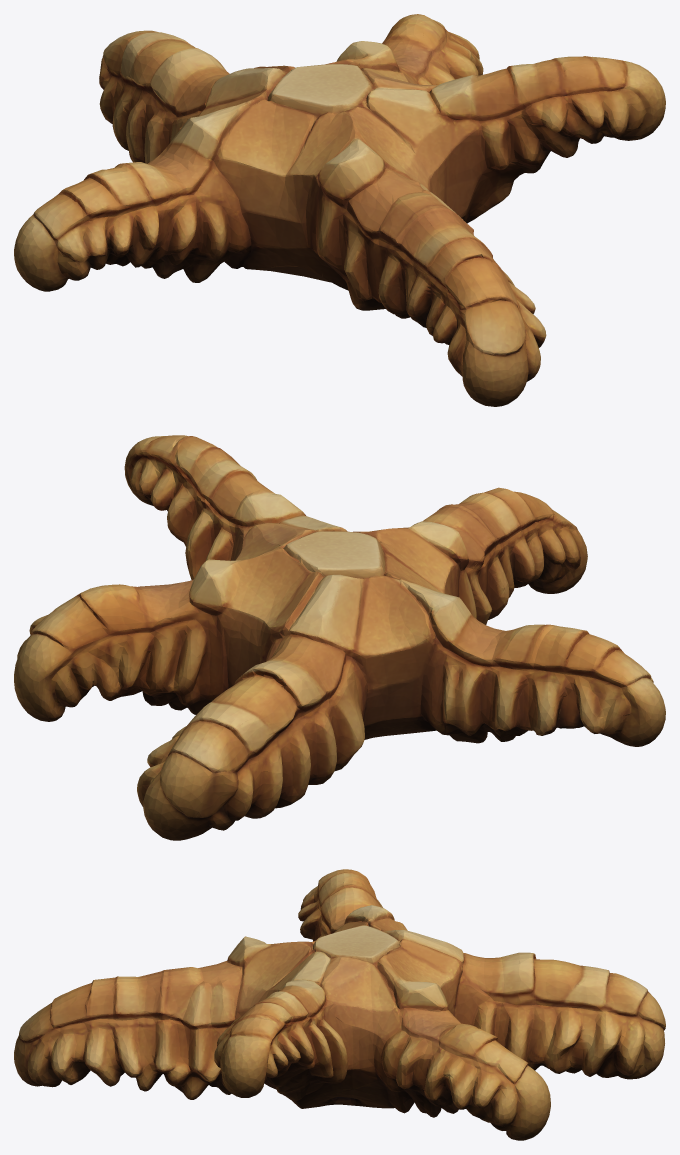
3 views of the same model, one above another, from view 1: azimuth 30°, elevation 25°; view 2: azimuth 150°, elevation 25°; view 3: azimuth 270°, elevation 25° (orthographic). The views are drawn at different scales.
Visible parts, largest first — view 1: world; view 2: world; view 3: world.
Boxes of the visible parts, x1=… form: world: x1=14, y1=14, x2=665, y2=406; world: x1=14, y1=435, x2=665, y2=840; world: x1=14, y1=869, x2=665, y2=1140.
Bounding box in the file's own units: 0.8702 × 0.276 × 0.999.
Materials: 1 (1 with a texture image).
